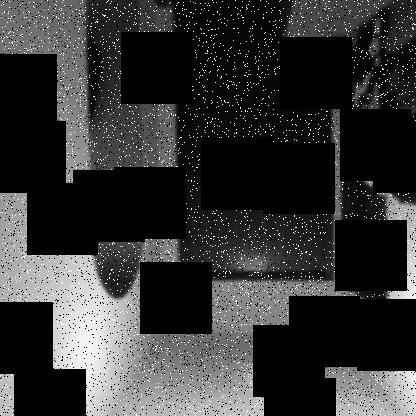Porte: (168, 1, 337, 284)
